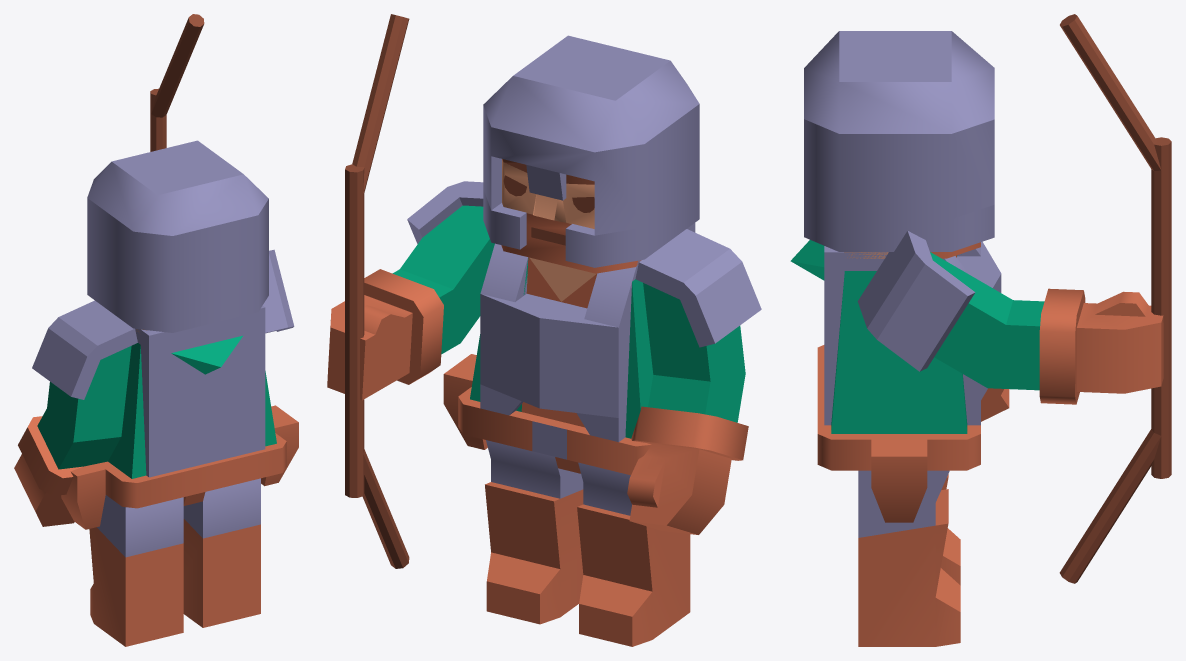
The model's file is Person.fbx.
The picture shows the model from 3 angles, left to right: view 1: azimuth 30°, elevation 25°; view 2: azimuth 150°, elevation 25°; view 3: azimuth 270°, elevation 25°; orthographic projection. The views are drawn at different scales.
Parts seen in each view (by area): view 1: mergedBlocks; view 2: mergedBlocks; view 3: mergedBlocks.
Part boxes in pixels (left/top/right/bottom): mergedBlocks: left=14, top=14, right=298, bottom=646; mergedBlocks: left=327, top=14, right=761, bottom=646; mergedBlocks: left=790, top=14, right=1171, bottom=646.
Bounding box in the file's own units: 2.38 × 4.51 × 2.42.
